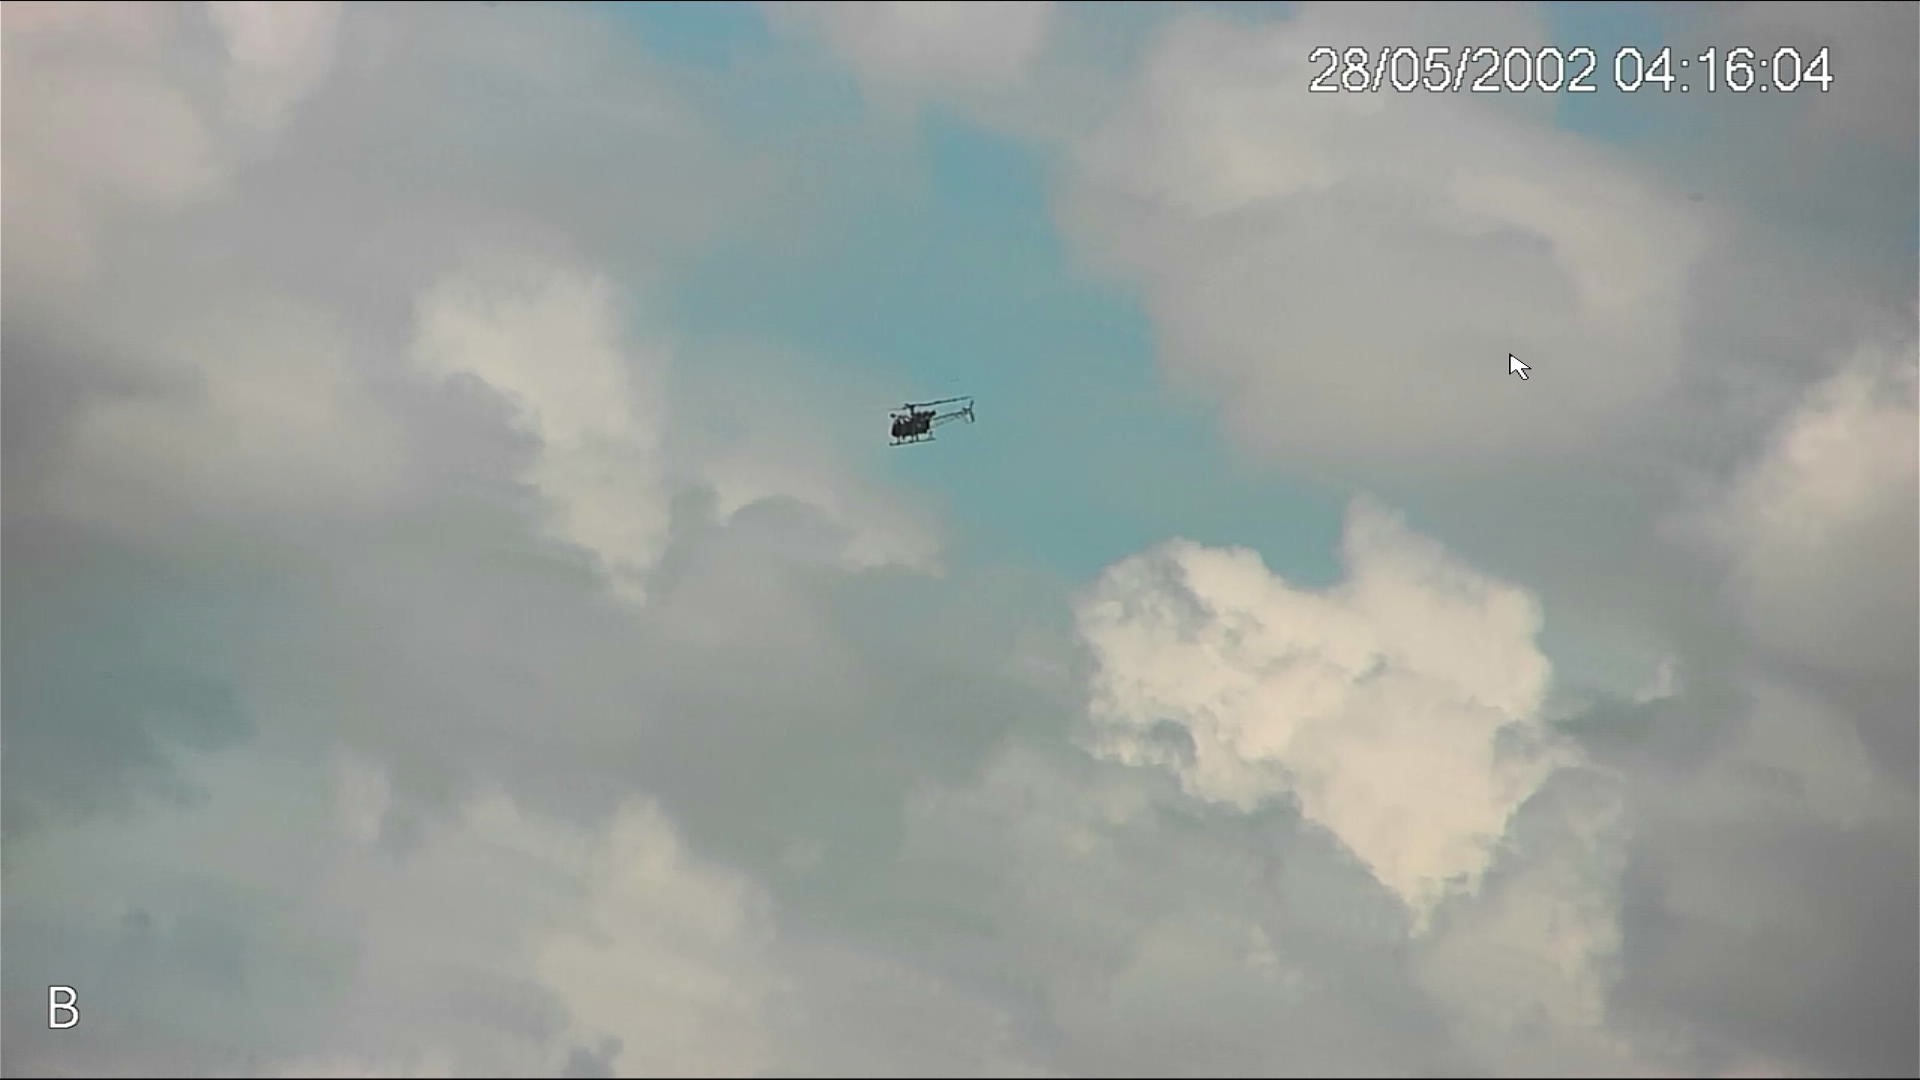SU_30: (877, 398, 985, 448)
